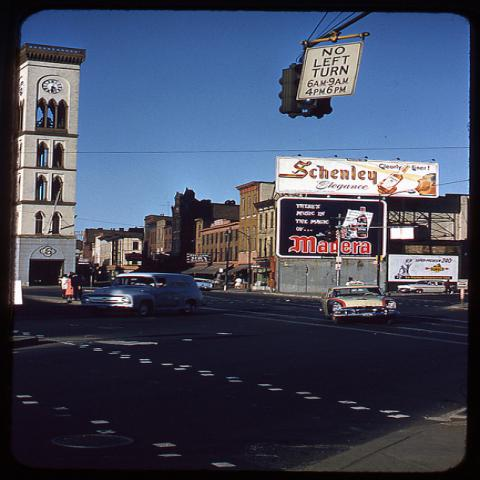car: (322, 285, 401, 324), (396, 280, 446, 294), (194, 277, 212, 291)
truck: (78, 271, 205, 316)
